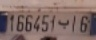1: (9, 15, 14, 32)
4: (33, 14, 40, 31)
5: (42, 15, 48, 31)
6: (16, 14, 24, 32), (80, 16, 88, 32), (25, 15, 32, 31)
b: (58, 18, 69, 29)
